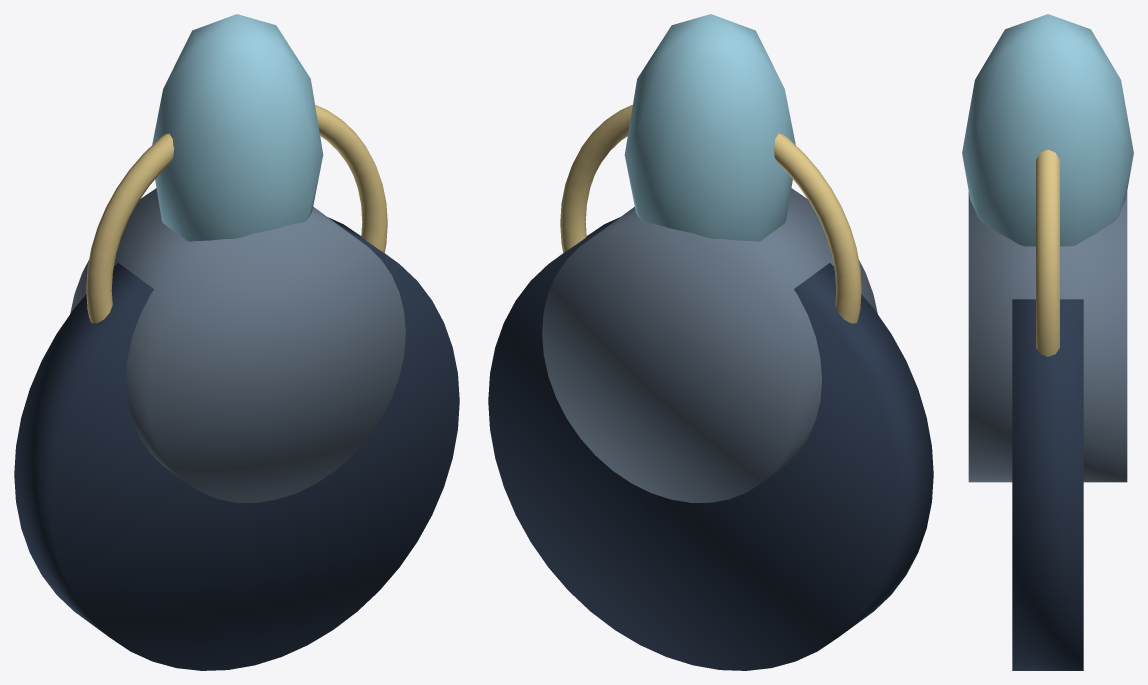
Rendered from passport-identity-plinth-v1.gltf.
3 renders of one model, left to right at view 1: azimuth 30°, elevation 25°; view 2: azimuth 150°, elevation 25°; view 3: azimuth 270°, elevation 25°, orthographic.
Parts seen in each view (by area): view 1: passport-identity-plinth-v1-00, passport-identity-plinth-v1-01, passport-identity-plinth-v1-03, passport-identity-plinth-v1-02; view 2: passport-identity-plinth-v1-00, passport-identity-plinth-v1-01, passport-identity-plinth-v1-03, passport-identity-plinth-v1-02; view 3: passport-identity-plinth-v1-03, passport-identity-plinth-v1-01, passport-identity-plinth-v1-00, passport-identity-plinth-v1-02.
Part boxes in pixels (x1,y1,x2,y2): passport-identity-plinth-v1-00: (14,217,459,670); passport-identity-plinth-v1-01: (70,188,405,502); passport-identity-plinth-v1-03: (152,14,323,241); passport-identity-plinth-v1-02: (86,104,387,323); passport-identity-plinth-v1-00: (488,217,933,670); passport-identity-plinth-v1-01: (542,188,877,502); passport-identity-plinth-v1-03: (624,14,795,241); passport-identity-plinth-v1-02: (560,104,861,323); passport-identity-plinth-v1-03: (962,14,1133,246); passport-identity-plinth-v1-01: (968,192,1127,482); passport-identity-plinth-v1-00: (1012,299,1083,670); passport-identity-plinth-v1-02: (1036,149,1059,356).
Size of the model in its own units: 1.84 by 2.74 by 0.672.
